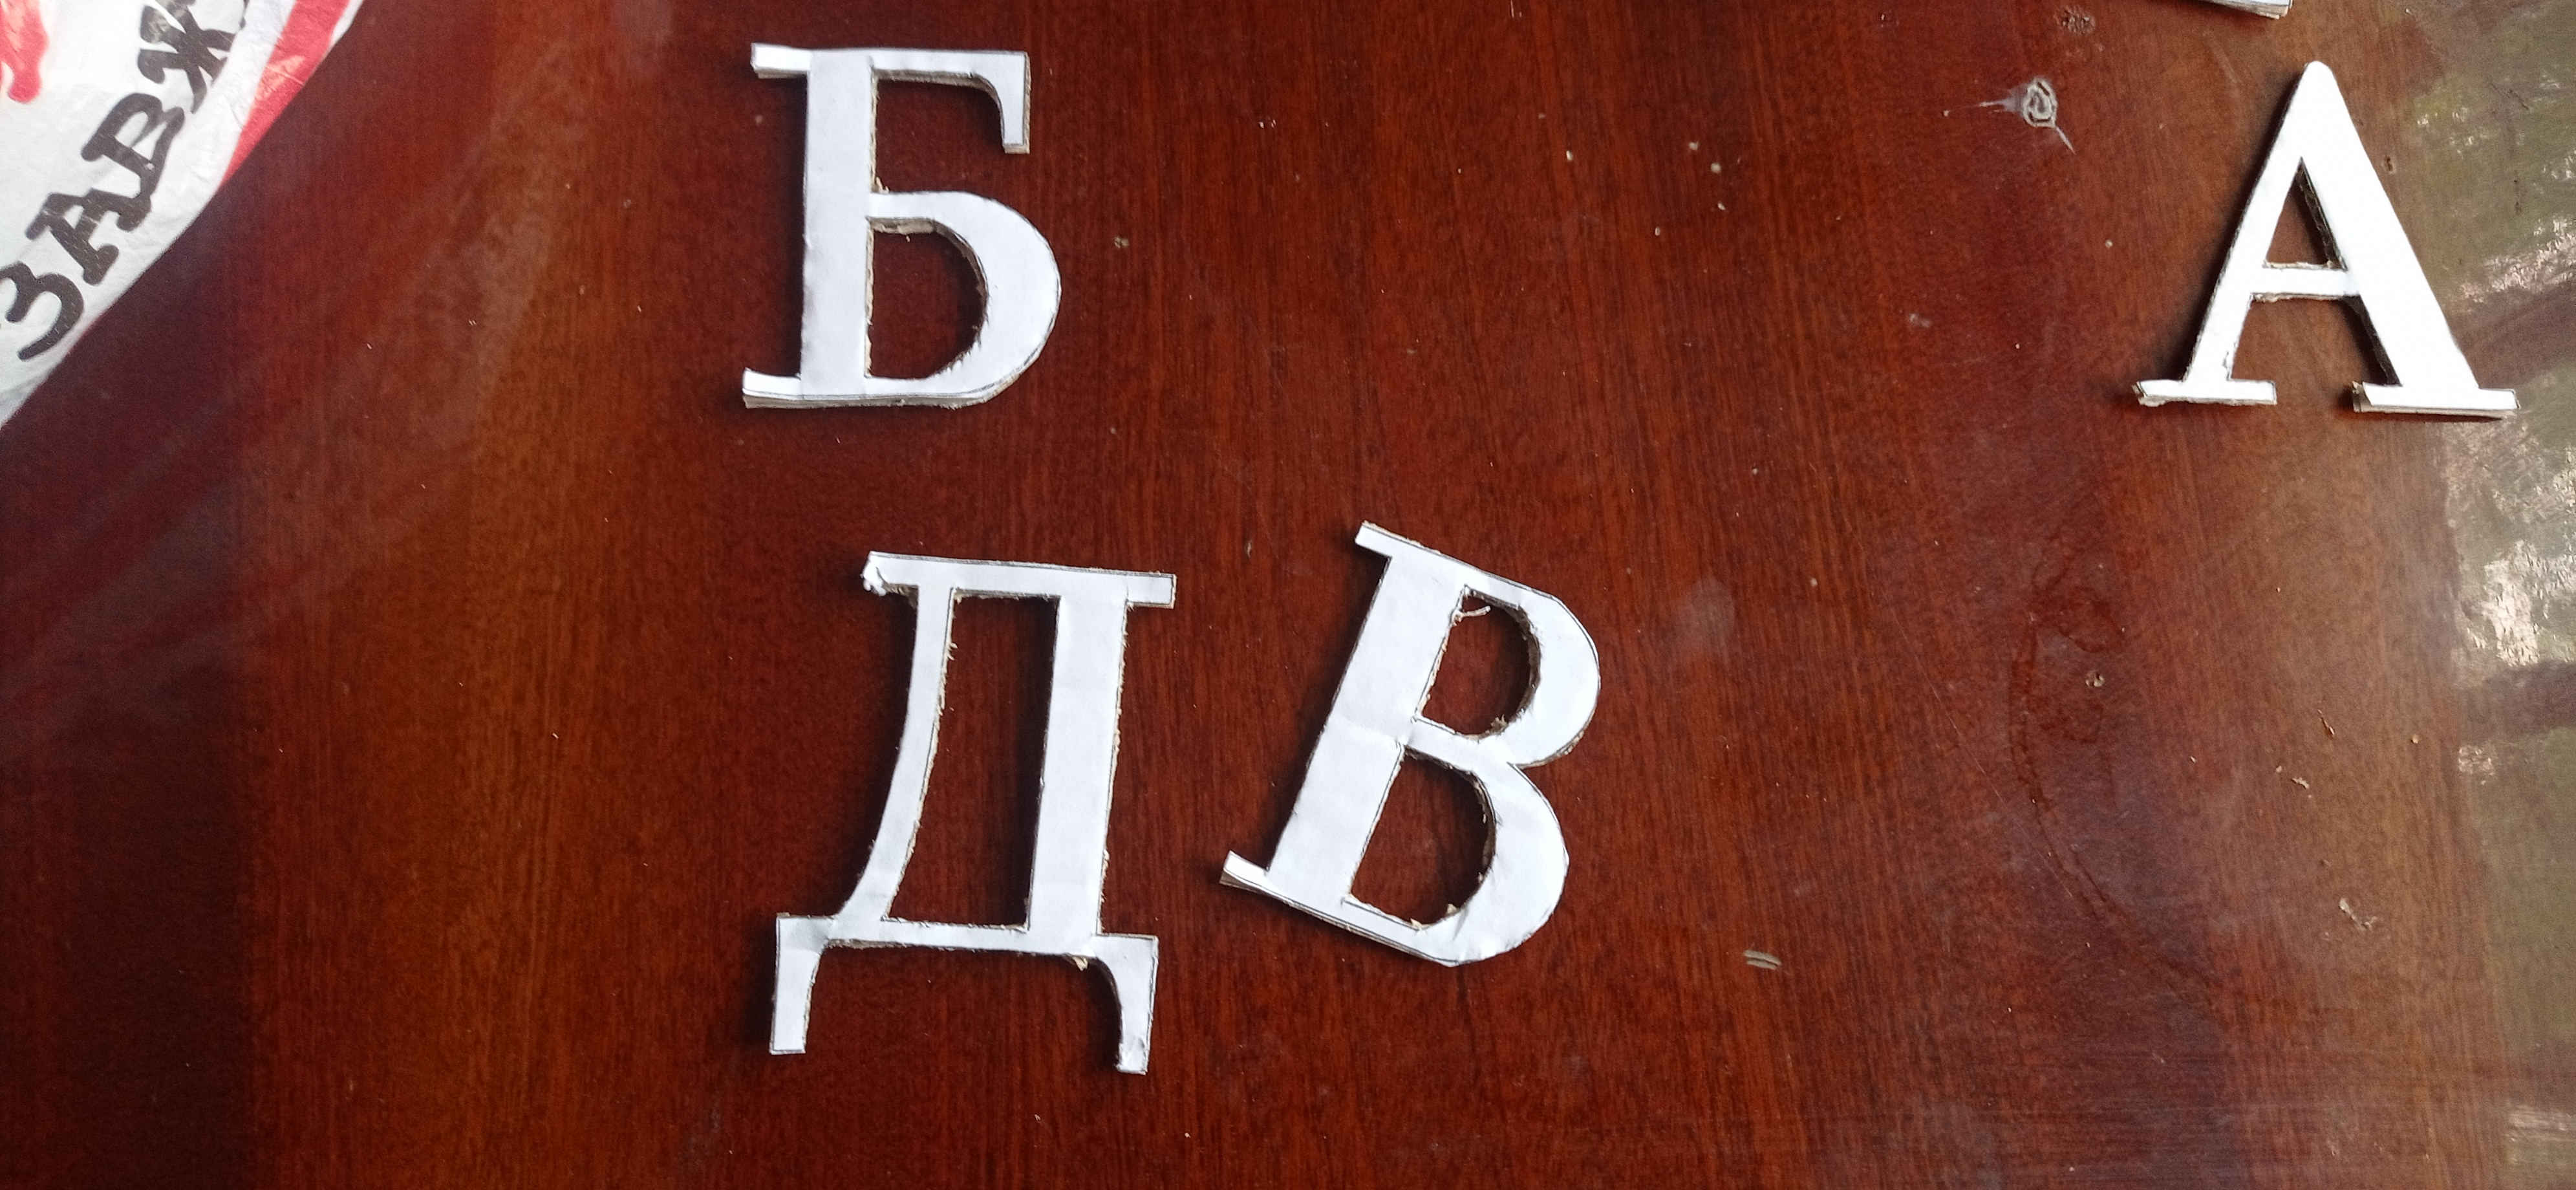a: (2132, 54, 2518, 431)
b: (733, 38, 1070, 419)
d: (764, 544, 1183, 1082)
v: (1209, 518, 1608, 978)
